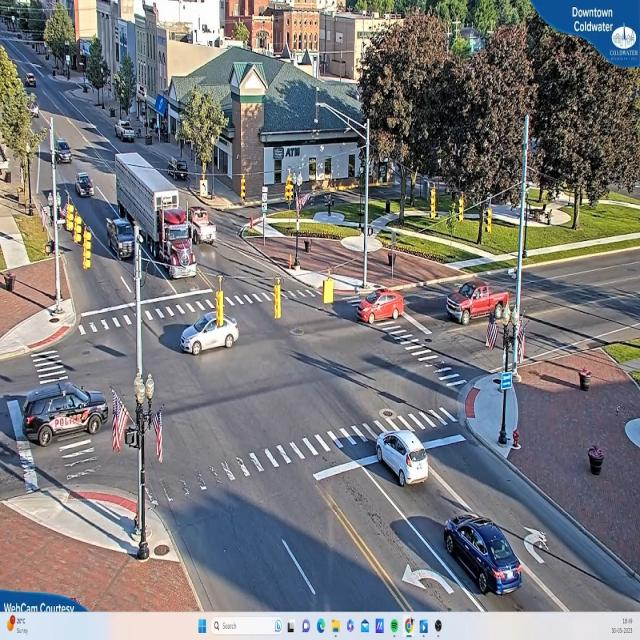car: (444, 516, 526, 598), (27, 383, 110, 450), (374, 428, 430, 486), (444, 284, 510, 324), (180, 315, 240, 355), (356, 290, 405, 324), (117, 121, 137, 144), (54, 139, 72, 162), (77, 173, 94, 195)
truck: (118, 149, 198, 284)
